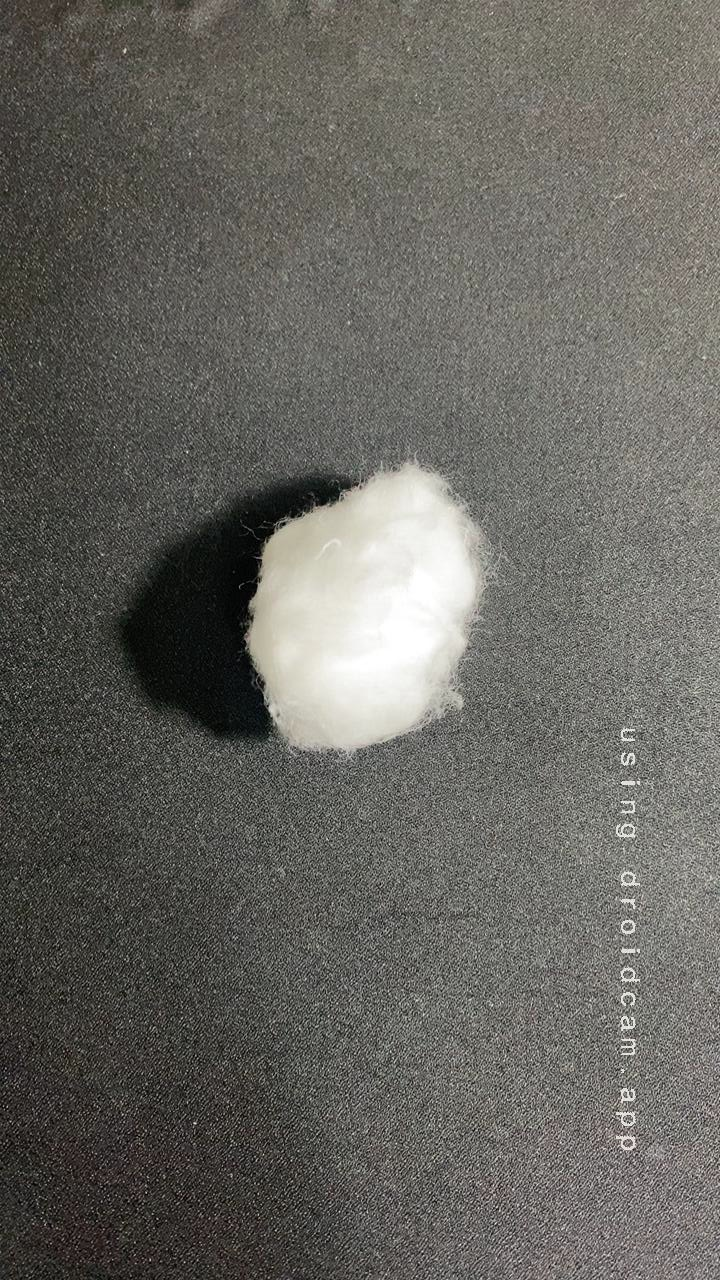cotton: (226, 440, 520, 768)
